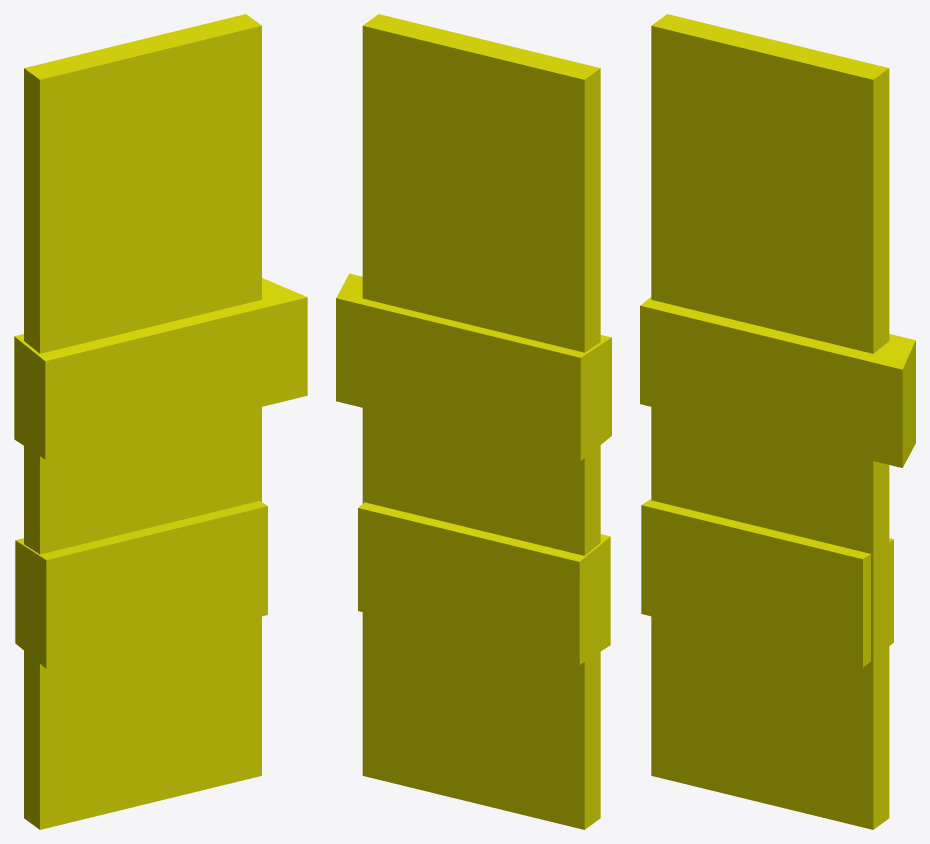
3 views of the same model, side by side, from view 1: azimuth 30°, elevation 25°; view 2: azimuth 150°, elevation 25°; view 3: azimuth 330°, elevation 25° (orthographic).
Visible parts, largest first — view 1: door_l; view 2: door_l; view 3: door_l.
Boxes of the visible parts, box(x1,y1,x2,y2) form: door_l: box(14, 14, 307, 829); door_l: box(336, 14, 611, 829); door_l: box(640, 14, 915, 829).
Bounding box in the file's own units: 0.8459 × 2.31 × 0.1733.
Materials: 1 (1 with a texture image).
